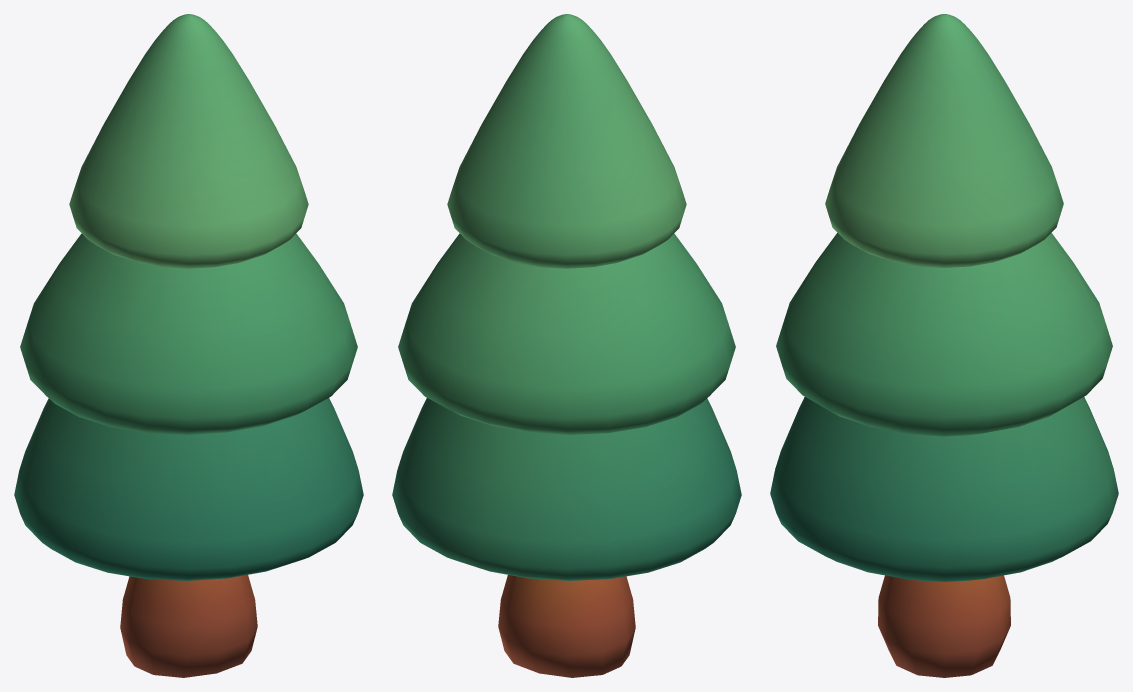
Rendered from pine.gltf.
3 renders of one model, left to right at view 1: azimuth 30°, elevation 25°; view 2: azimuth 150°, elevation 25°; view 3: azimuth 270°, elevation 25°, orthographic.
Parts seen in each view (by area): view 1: Pine; view 2: Pine; view 3: Pine.
Part boxes in pixels (x1,y1,x2,y2): Pine: (14, 14, 363, 677); Pine: (392, 14, 741, 677); Pine: (770, 14, 1118, 677).
Bounding box in the file's own units: 1.83 × 3.69 × 1.83.
1 material, 1 textured.
